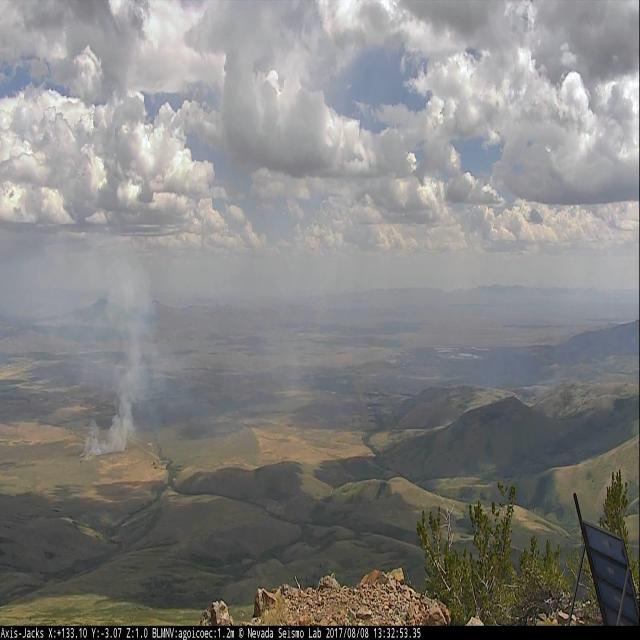smoke: (78, 247, 151, 461)
